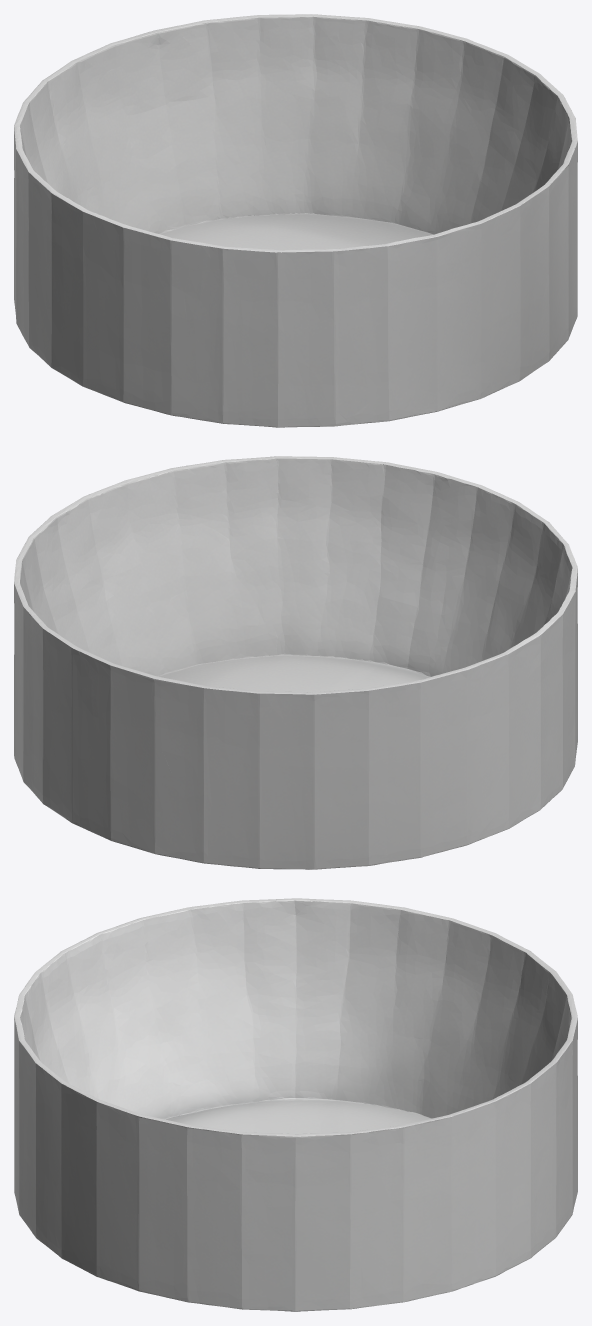
Rendered from f1ca9b63-5222-46bd-adf8-6c0c332e1d8e.glb.
3 views of the same model, one above another, from view 1: azimuth 30°, elevation 25°; view 2: azimuth 150°, elevation 25°; view 3: azimuth 270°, elevation 25° (orthographic).
Parts seen in each view (by area): view 1: world; view 2: world; view 3: world.
Boxes of the visible parts, <box> form: world: <box>14,14,577,427</box>; world: <box>14,456,577,869</box>; world: <box>14,898,577,1311</box>.
Bounding box in the file's own units: 1 × 0.3601 × 1.
1 material, 1 textured.
